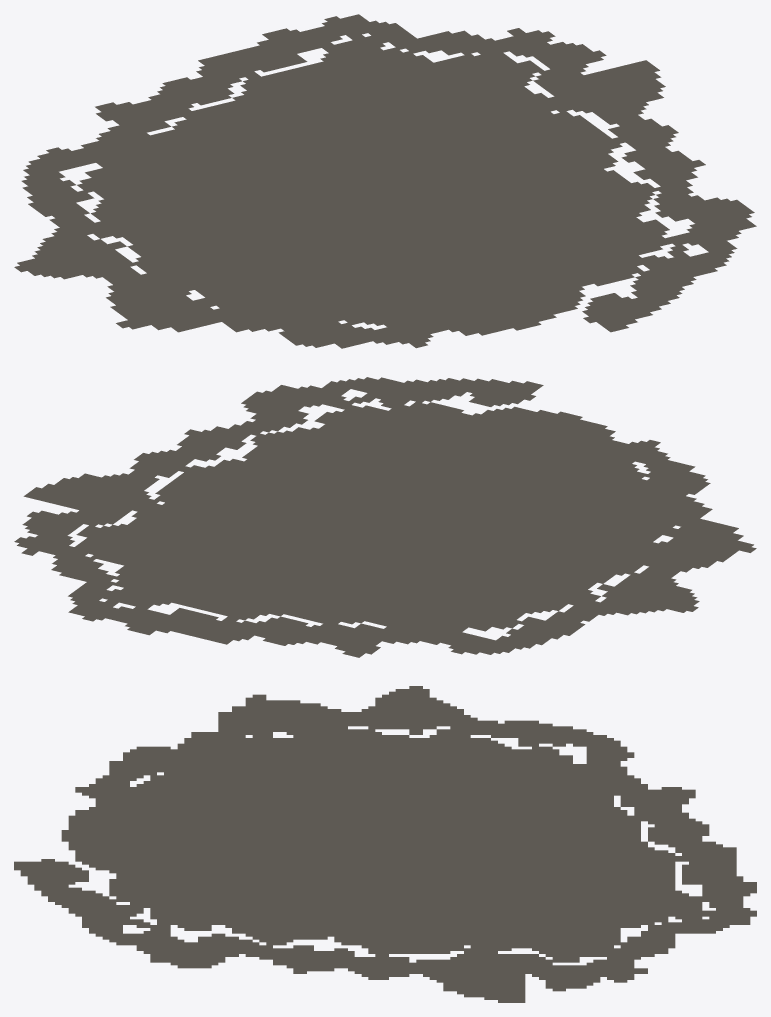
Rendered from Isl-rocky5-NoBuildArea.fbx.
3 renders of one model, top to bottom at view 1: azimuth 30°, elevation 25°; view 2: azimuth 150°, elevation 25°; view 3: azimuth 270°, elevation 25°, orthographic. The views are drawn at different scales.
Visible parts, largest first — view 1: Isl-rocky5-NoBuildArea; view 2: Isl-rocky5-NoBuildArea; view 3: Isl-rocky5-NoBuildArea.
Boxes of the visible parts, left/top/right/bottom form: Isl-rocky5-NoBuildArea: left=14, top=14, right=756, bottom=348; Isl-rocky5-NoBuildArea: left=14, top=377, right=756, bottom=657; Isl-rocky5-NoBuildArea: left=14, top=686, right=756, bottom=1002.
Bounding box in the file's own units: 110 × 0 × 109.
